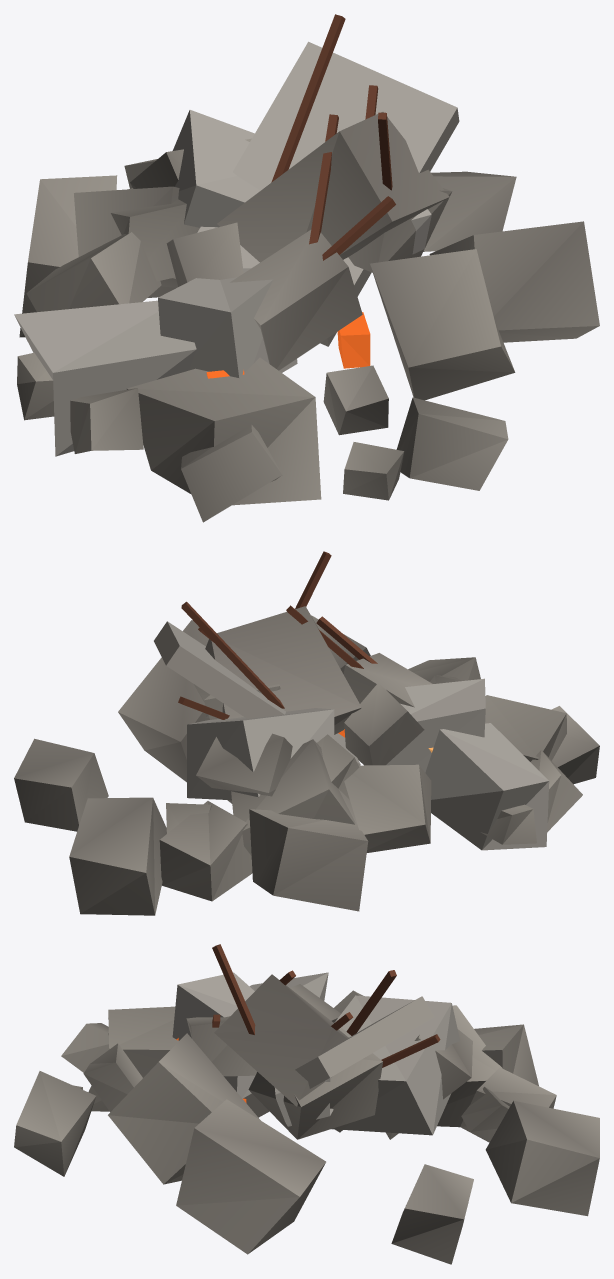
The model's file is prop_rubble_pile.meshopt.glb.
The picture shows the model from 3 angles, top to bottom: view 1: azimuth 30°, elevation 25°; view 2: azimuth 150°, elevation 25°; view 3: azimuth 270°, elevation 25°; orthographic projection. The views are drawn at different scales.
Parts seen in each view (by area): view 1: rubble_pile; view 2: rubble_pile; view 3: rubble_pile.
Boxes of the visible parts, x1,y1,x2,y2 form: rubble_pile: [14, 14, 599, 522]; rubble_pile: [14, 551, 599, 915]; rubble_pile: [14, 944, 599, 1264].
Bounding box in the file's own units: 4.65 × 2.42 × 5.31.
